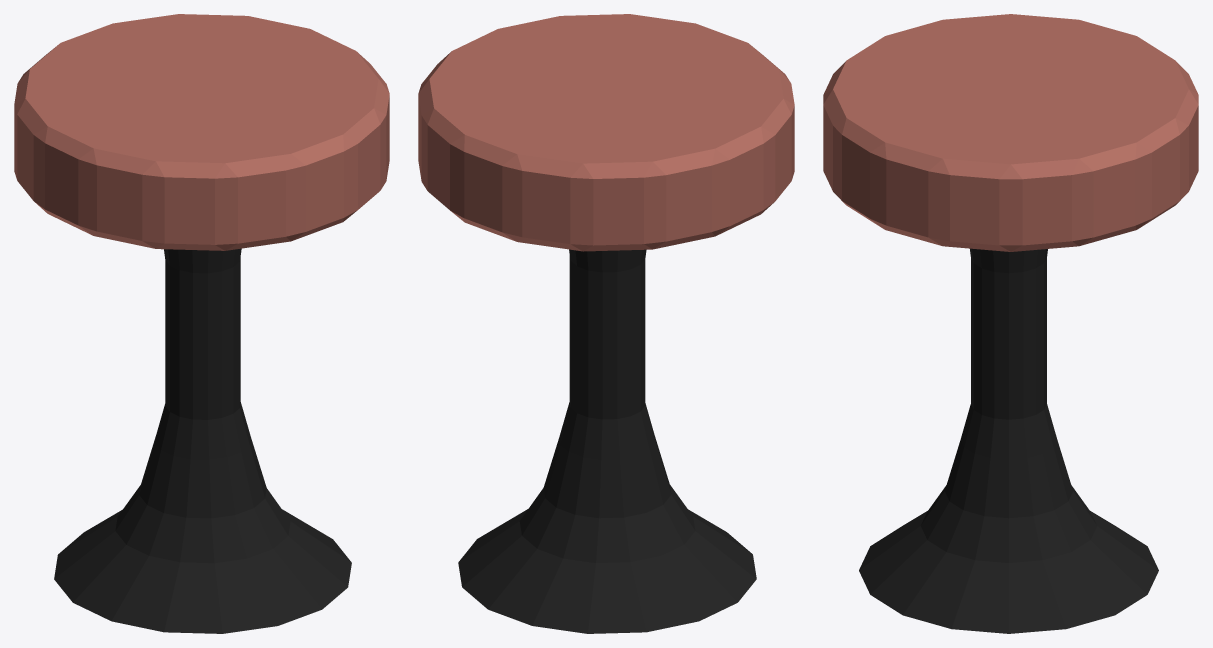
Rendered from stool.fbx.
3 renders of one model, left to right at view 1: azimuth 30°, elevation 25°; view 2: azimuth 150°, elevation 25°; view 3: azimuth 270°, elevation 25°, orthographic.
Visible parts, largest first — view 1: Cylinder.002, Cylinder.003; view 2: Cylinder.002, Cylinder.003; view 3: Cylinder.002, Cylinder.003.
Part boxes in pixels (left/top/right/bottom): Cylinder.002: left=14, top=14, right=389, bottom=250; Cylinder.003: left=54, top=248, right=351, bottom=633; Cylinder.002: left=418, top=14, right=794, bottom=251; Cylinder.003: left=458, top=249, right=756, bottom=633; Cylinder.002: left=823, top=14, right=1198, bottom=251; Cylinder.003: left=859, top=248, right=1158, bottom=633.
Size of the model in its own units: 65.79 by 93.06 by 65.79.
